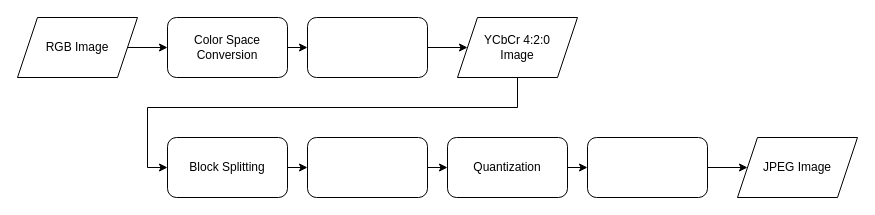
Some shapes in this 875 by 215 pixel diagram are drawn without their labels. Here are the shapes that lost their labels. From the top down, the centre of each, then its label:
At [367,47]: "Chroma Subsampling".
At [367,167]: "Discrete Cosine Transform".
At [647,167]: "Encoding".
